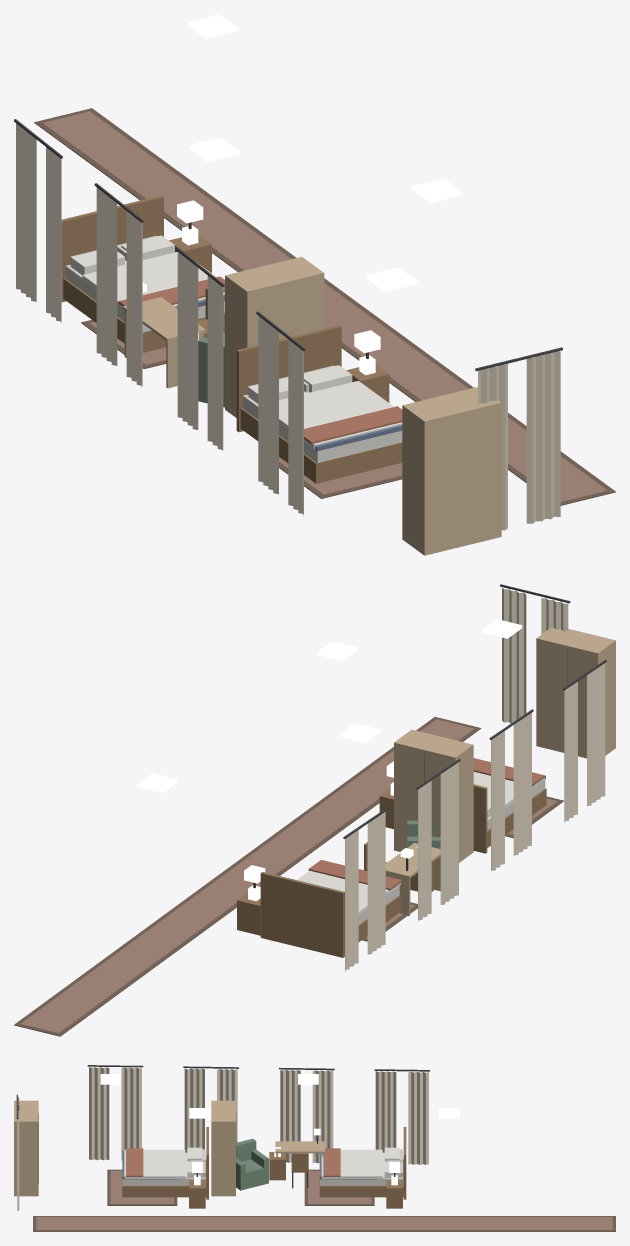
Rendered from fine-s1.glb.
3 views of the same model, one above another, from view 1: azimuth 30°, elevation 25°; view 2: azimuth 150°, elevation 25°; view 3: azimuth 270°, elevation 25° (orthographic). The views are drawn at different scales.
Parts seen in each view (by area): view 1: soft-s1, dresser.001, bed-frame.001, dresser.000, bed-frame.000, writing-desk.000, nightstand.001, nightstand.000, lounge-chair.000, ceiling-lamp.002, ceiling-lamp.005, ceiling-lamp.004 (+1 smaller); view 2: soft-s1, dresser.001, bed-frame.000, dresser.000, bed-frame.001, writing-desk.000, nightstand.000; view 3: soft-s1, dresser.000, dresser.001, bed-frame.000, bed-frame.001, lounge-chair.000, writing-desk.000, nightstand.000, nightstand.001, side-table.000, cafe-chair.000.
Boxes of the visible parts, x1,y1,x2,y2 form: soft-s1: (14,108,615,530); dresser.001: (402,387,501,555); bed-frame.001: (236,325,402,483); dresser.000: (225,256,324,417); bed-frame.000: (61,195,224,352); writing-desk.000: (122,282,205,388); nightstand.001: (346,355,389,402); nightstand.000: (169,225,211,272); lounge-chair.000: (198,336,224,407); ceiling-lamp.002: (187,14,238,38); ceiling-lamp.005: (366,267,417,291); ceiling-lamp.004: (189,137,239,161); soft-s1: (14,584,606,1036); dresser.001: (536,627,615,758); bed-frame.000: (260,872,400,957); dresser.000: (394,729,473,862); bed-frame.001: (473,775,546,853); writing-desk.000: (385,843,440,915); nightstand.000: (237,885,260,935); soft-s1: (16,1065,615,1231); dresser.000: (211,1100,236,1196); dresser.001: (14,1100,38,1196); bed-frame.000: (319,1127,406,1199); bed-frame.001: (122,1127,208,1199); lounge-chair.000: (236,1138,268,1190); writing-desk.000: (275,1128,324,1158); nightstand.000: (386,1175,402,1208); nightstand.001: (189,1175,205,1208); side-table.000: (269,1147,285,1180); cafe-chair.000: (291,1153,308,1188).
Bounding box in the file's own units: 4.11 × 2.99 × 14.61.
